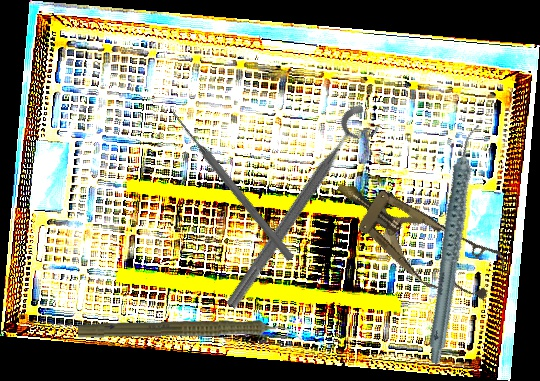Fixation Ring: (219, 100, 386, 321)
Handpiece: (381, 122, 530, 366), (77, 316, 303, 346)
Pusher: (168, 109, 297, 263)
Speculum: (319, 156, 512, 317)
